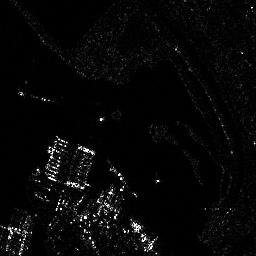ship: (105, 159, 139, 198)
